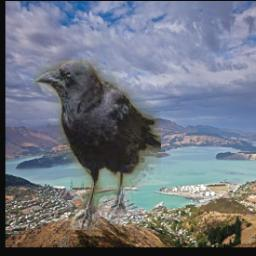Crow: (33, 61, 161, 231)
